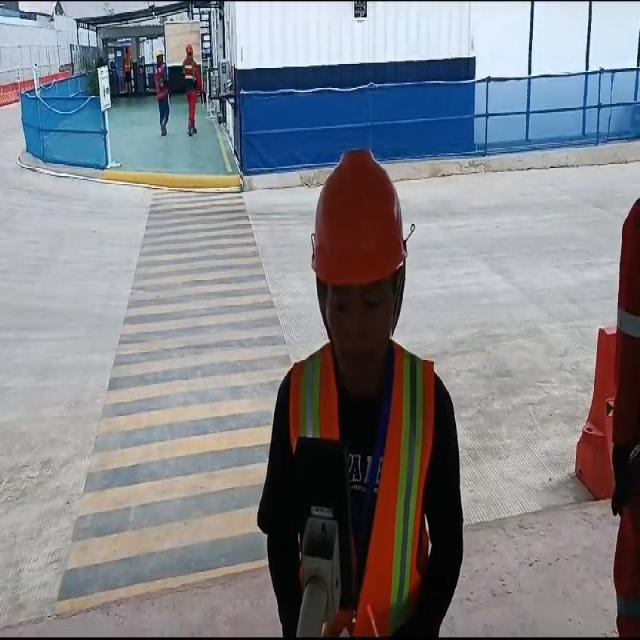helmet: (312, 150, 413, 286)
safety_vest: (290, 356, 429, 624)
